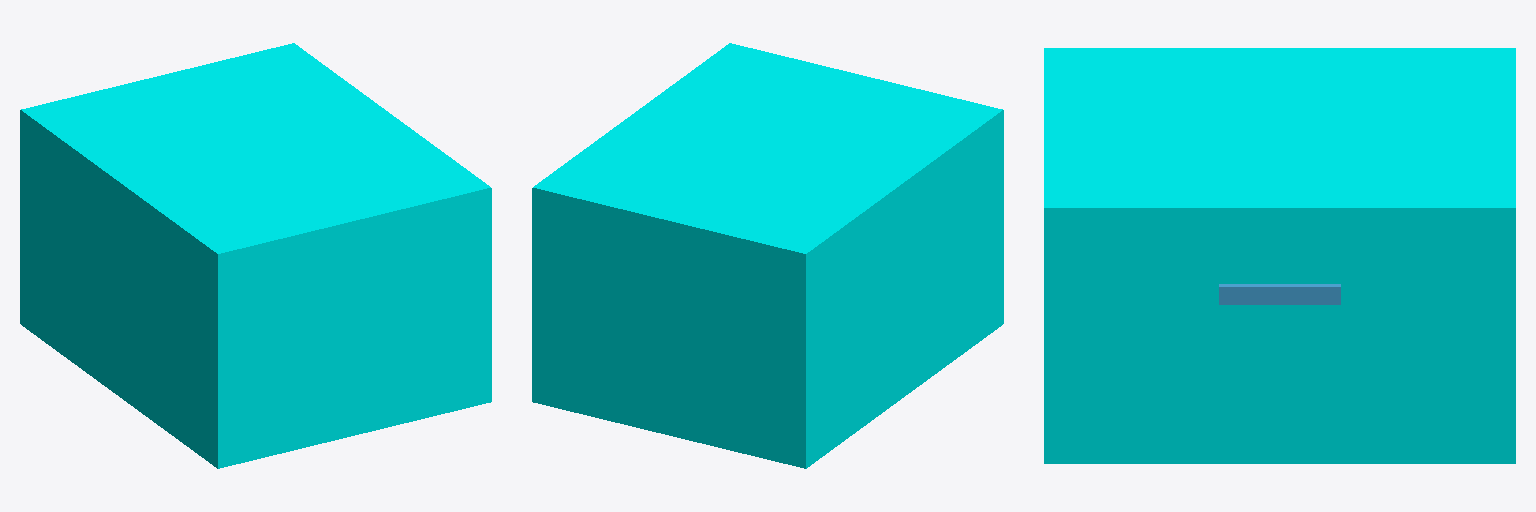
robot.urdf — benoit_pairob:
<?xml version="1.0" ?>
<!-- =================================================================================== -->
<!-- |    This document was autogenerated by xacro from [local-path]/niche/ros2_ws/src/camera_control_cpp/src/description/robot.urdf | -->
<!-- |    EDITING THIS FILE BY HAND IS NOT RECOMMENDED                                 | -->
<!-- =================================================================================== -->
<robot name="benoit_pairob">
  <!-- Robot Base -->
  <link name="base_link">
    <visual>
      <geometry>
        <box size="0.4 0.5 0.3"/>
      </geometry>
      <material name="Cyan">
        <color rgba="0 1.0 1.0 1.0"/>
      </material>
    </visual>
    <collision>
      <geometry>
        <box size="0.4 0.5 0.3"/>
      </geometry>
    </collision>
    <inertial>
      <origin rpy="1.5707963267948966 0 1.5707963267948966" xyz="0 0 0"/>
      <mass value="10"/>
      <inertia ixx="0.20833333333333334" ixy="0.0" ixz="0.0" iyy="0.34166666666666673" iyz="0.0" izz="0.2833333333333333"/>
    </inertial>
    </link>
    <gazebo reference="base_link">
      <plugin filename="libmy_plugin.so" name="custom_plugin">
        <ros>
          <namespace>/plugin</namespace>
        </ros>
        <robot_base_frame>base_link</robot_base_frame>
      </plugin>
    </gazebo>
  
  <!-- Camera -->
  <link name="camera_link">
    <visual>
      <origin rpy="0 0 0" xyz="0 0 0"/>
      <geometry>
        <box size="0.015 0.130 0.022"/>
      </geometry>
    </visual>
    <collision>
      <origin rpy="0 0 0" xyz="0 0 0"/>
      <geometry>
        <box size="0.015 0.130 0.022"/>
      </geometry>
    </collision>
    <inertial>
      <origin rpy="0 0 0" xyz="0 0 0"/>
      <mass value="0.035"/>
      <inertia ixx="0.001" ixy="0" ixz="0" iyy="0.001" iyz="0" izz="0.001"/>
    </inertial>
  </link>
  <joint name="camera_joint" type="fixed">
    <parent link="base_link"/>
    <child link="camera_link"/>
    <origin rpy="0 0 0" xyz="0.2 0 0.05"/>
  </joint>
  <link name="camera_depth_frame"/>
  <joint name="camera_depth_joint" type="fixed">
    <origin rpy="-1.5707963267948966 0 -1.5707963267948966" xyz="0 0 0"/>
    <parent link="camera_link"/>
    <child link="camera_depth_frame"/>
  </joint>
  <gazebo reference="camera_link">
    <sensor name="depth_camera" type="depth">
      <visualize>true</visualize>
      <update_rate>30.0</update_rate>
      <camera name="camera">
        <horizontal_fov>1.047198</horizontal_fov>
        <image>
          <width>640</width>
          <height>480</height>
          <format>R8G8B8</format>
        </image>
        <clip>
          <near>0.05</near>
          <far>8</far>
        </clip>
      </camera>
      <plugin filename="libgazebo_ros_camera.so" name="depth_camera_controller">
        <baseline>0.2</baseline>
        <alwaysOn>true</alwaysOn>
        <updateRate>0.0</updateRate>
        <frame_name>camera_depth_frame</frame_name>
        <pointCloudCutoff>0.5</pointCloudCutoff>
        <pointCloudCutoffMax>8.0</pointCloudCutoffMax>
        <distortionK1>0</distortionK1>
        <distortionK2>0</distortionK2>
        <distortionK3>0</distortionK3>
        <distortionT1>0</distortionT1>
        <distortionT2>0</distortionT2>
        <CxPrime>0</CxPrime>
        <Cx>0</Cx>
        <Cy>0</Cy>
        <focalLength>0</focalLength>
        <hackBaseline>0</hackBaseline>
      </plugin>
    </sensor>
  </gazebo>
  <!--
  IMU
  <link name="imu_link">
    <visual>
      <geometry>
        <box size="0.1 0.1 0.1"/>
      </geometry>
    </visual>
  
    <collision>
      <geometry>
        <box size="0.1 0.1 0.1"/>
      </geometry>
    </collision>
  
    <xacro:box_inertia m="0.1" w="0.1" d="0.1" h="0.1"/>
  </link>
  
  <joint name="imu_joint" type="fixed">
    <parent link="base_link"/>
    <child link="imu_link"/>
    <origin xyz="0 0 0.01"/>
  </joint>
  
   <gazebo reference="imu_link">
    <sensor name="imu_sensor" type="imu">
     <plugin filename="libgazebo_ros_imu_sensor.so" name="imu_plugin">
        <ros>
          <namespace>/demo</namespace>
          <remapping>~/out:=imu</remapping>
        </ros>
        <initial_orientation_as_reference>false</initial_orientation_as_reference>
      </plugin>
      <always_on>true</always_on>
      <update_rate>100</update_rate>
      <visualize>true</visualize>
      <imu>
        <angular_velocity>
          <x>
            <noise type="gaussian">
              <mean>0.0</mean>
              <stddev>2e-4</stddev>
              <bias_mean>0.0000075</bias_mean>
              <bias_stddev>0.0000008</bias_stddev>
            </noise>
          </x>
          <y>
            <noise type="gaussian">
              <mean>0.0</mean>
              <stddev>2e-4</stddev>
              <bias_mean>0.0000075</bias_mean>
              <bias_stddev>0.0000008</bias_stddev>
            </noise>
          </y>
          <z>
            <noise type="gaussian">
              <mean>0.0</mean>
              <stddev>2e-4</stddev>
              <bias_mean>0.0000075</bias_mean>
              <bias_stddev>0.0000008</bias_stddev>
            </noise>
          </z>
        </angular_velocity>
        <linear_acceleration>
          <x>
            <noise type="gaussian">
              <mean>0.0</mean>
              <stddev>1.7e-2</stddev>
              <bias_mean>0.1</bias_mean>
              <bias_stddev>0.001</bias_stddev>
            </noise>
          </x>
          <y>
            <noise type="gaussian">
              <mean>0.0</mean>
              <stddev>1.7e-2</stddev>
              <bias_mean>0.1</bias_mean>
              <bias_stddev>0.001</bias_stddev>
            </noise>
          </y>
          <z>
            <noise type="gaussian">
              <mean>0.0</mean>
              <stddev>1.7e-2</stddev>
              <bias_mean>0.1</bias_mean>
              <bias_stddev>0.001</bias_stddev>
            </noise>
          </z>
        </linear_acceleration>
      </imu>
    </sensor>
  </gazebo>


-->
</robot>

--- Facts derived from the render (not from the file) ---
The picture shows the robot from 3 angles, left to right: view 1: azimuth 30°, elevation 25°; view 2: azimuth 150°, elevation 25°; view 3: azimuth 270°, elevation 25°; orthographic projection.
Model benoit_pairob with 3 links and 2 joints (2 fixed), rooted at base_link, posed every joint at zero.
Links seen in each view (by area): view 1: base_link; view 2: base_link; view 3: base_link, camera_link.
Boxes of the visible links, bbox=[...] form: base_link: bbox=[20, 43, 491, 468]; base_link: bbox=[532, 43, 1003, 468]; base_link: bbox=[1044, 48, 1515, 463]; camera_link: bbox=[1219, 284, 1340, 304].
Bounding box of the posed robot: 0.4075 × 0.5 × 0.3 m (x, y, z).
Geometry: primitives only (box / cylinder / sphere), no mesh files.
